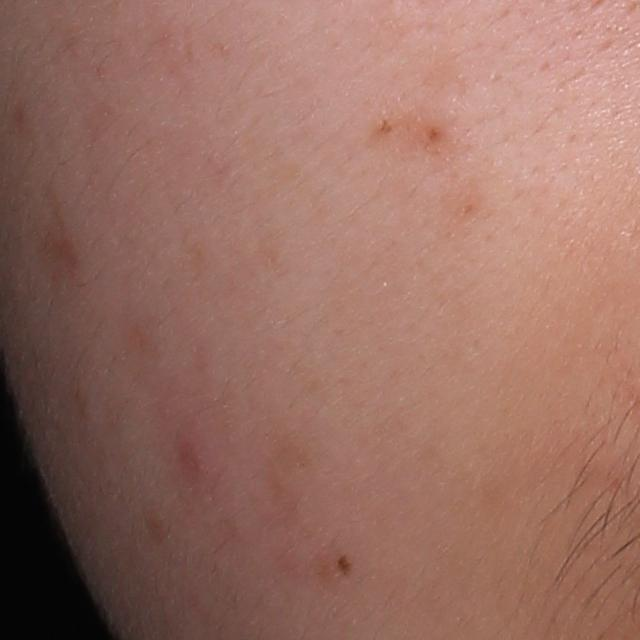nevus: (336, 554, 354, 579)
